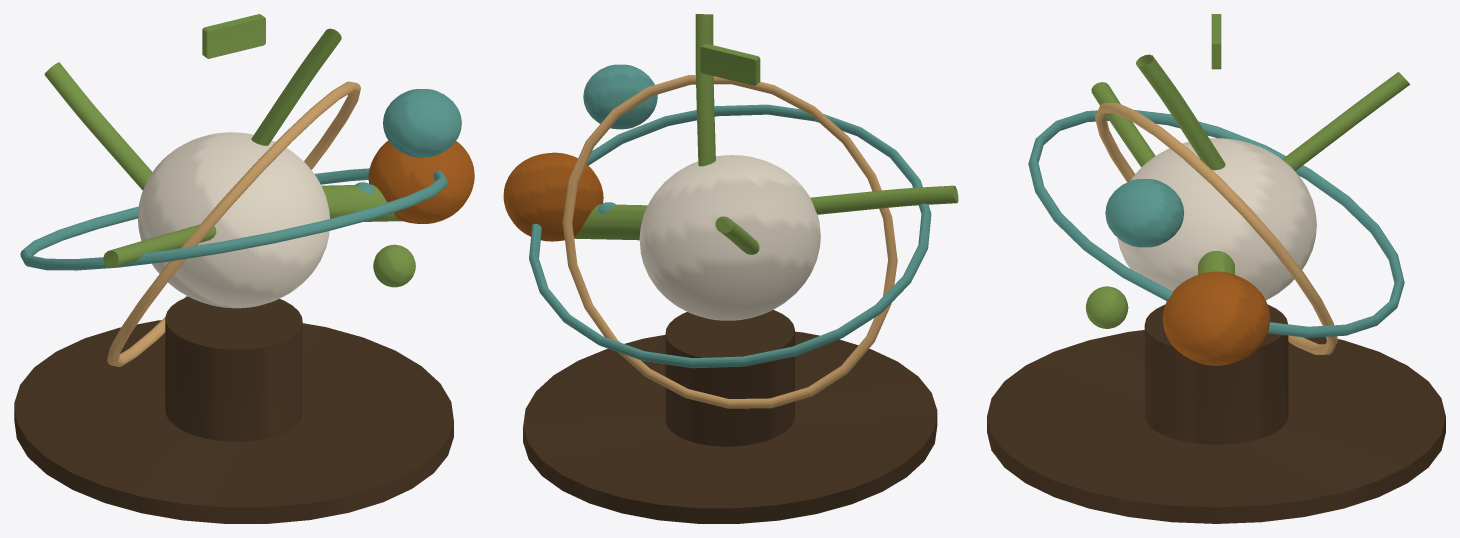
File: 0522_生活中的化学图鉴_巴黎绿.glb
3 renders of one model, left to right at view 1: azimuth 30°, elevation 25°; view 2: azimuth 150°, elevation 25°; view 3: azimuth 270°, elevation 25°, orthographic. The views are drawn at different scales.
Parts seen in each view (by area): view 1: card_0522; view 2: card_0522; view 3: card_0522.
Boxes of the visible parts, x1,y1,x2,y2 form: card_0522: (14, 14, 474, 523); card_0522: (503, 14, 958, 523); card_0522: (987, 14, 1445, 523).
Size of the model in its own units: 1.09 by 1 by 1.02.
